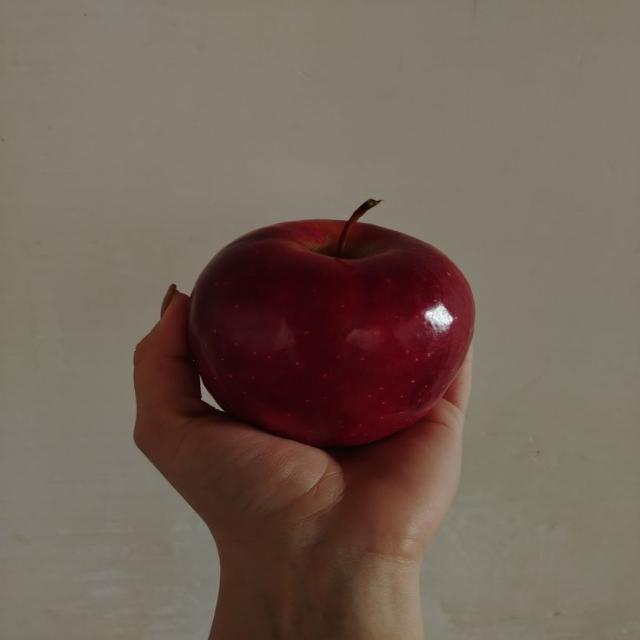apple: (189, 200, 473, 446)
